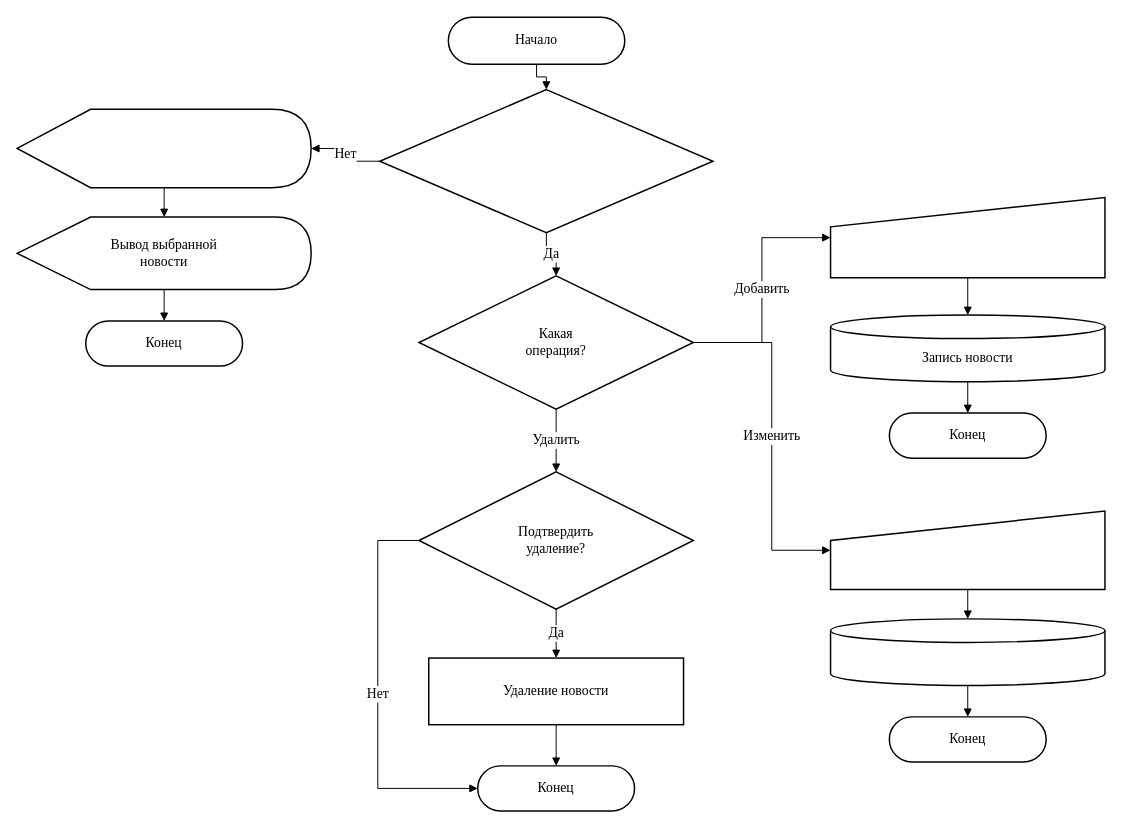
Image size: 1123x829. Some labels were removed from this diagram. The centre of each missing label's shape, as x and y in pixels:
Ввод заголовка, текста и даты: point (967, 237)
Выбор новости и правка полей: point (967, 550)
Вывод новостей по убыванию даты: point (163, 148)
Обновление записи: point (967, 652)
Пользователь — администратор?: point (546, 160)
